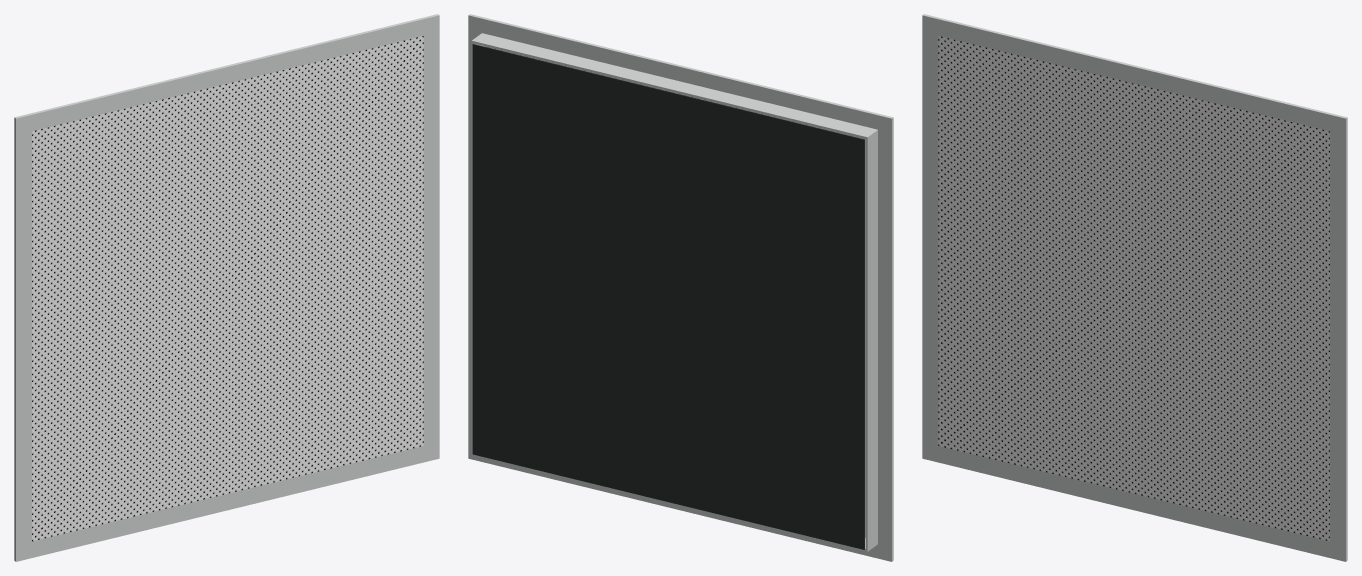
The model's file is ecoclima-egfr-400x400.glb.
3 renders of one model, left to right at view 1: azimuth 30°, elevation 25°; view 2: azimuth 150°, elevation 25°; view 3: azimuth 330°, elevation 25°, orthographic.
Parts seen in each view (by area): view 1: Profile_lamiera_forata, Profile_cornice.109, Profile_cornice.111, Profile_cornice.110, Profile_cornice.112; view 2: Interno.031, Profile_cornice.109, Profile_cornice.111, Profile_ritorno.118, Profile_ritorno.116, Profile_cornice.110, Profile_cornice.112, Profile_lamiera_forata, Profile_ritorno.119, Profile_ritorno.117; view 3: Profile_lamiera_forata, Profile_cornice.109, Profile_cornice.112, Profile_cornice.110, Profile_cornice.111.
Boxes of the visible parts, x1,y1,x2,y2 form: Profile_lamiera_forata: [32, 36, 423, 541]; Profile_cornice.109: [14, 14, 439, 135]; Profile_cornice.111: [14, 131, 31, 545]; Profile_cornice.110: [14, 442, 439, 561]; Profile_cornice.112: [423, 32, 439, 445]; Interno.031: [472, 44, 864, 549]; Profile_cornice.109: [468, 14, 893, 135]; Profile_cornice.111: [878, 132, 893, 545]; Profile_ritorno.118: [865, 132, 877, 549]; Profile_ritorno.116: [471, 33, 877, 139]; Profile_cornice.110: [468, 442, 893, 561]; Profile_cornice.112: [468, 32, 484, 442]; Profile_lamiera_forata: [485, 46, 865, 537]; Profile_ritorno.119: [471, 43, 484, 452]; Profile_ritorno.117: [471, 453, 877, 551]; Profile_lamiera_forata: [938, 36, 1329, 541]; Profile_cornice.109: [922, 14, 1347, 135]; Profile_cornice.112: [1330, 131, 1347, 545]; Profile_cornice.110: [922, 442, 1347, 561]; Profile_cornice.111: [922, 32, 938, 445].
Size of the model in its own units: 0.4 by 0.4 by 0.022.
Materials: 3 (1 with a texture image).
